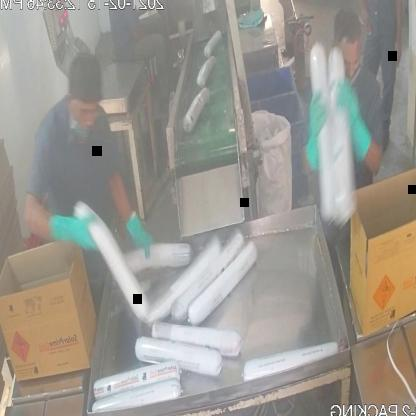glove: (41, 206, 100, 262), (120, 201, 166, 261)
no_glove: (390, 0, 406, 69), (356, 0, 373, 40)
